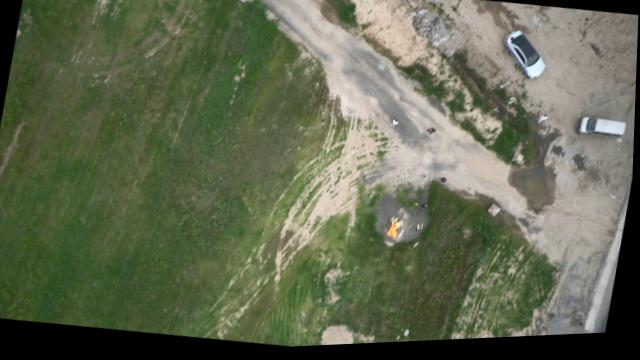fire: (368, 207, 420, 253)
